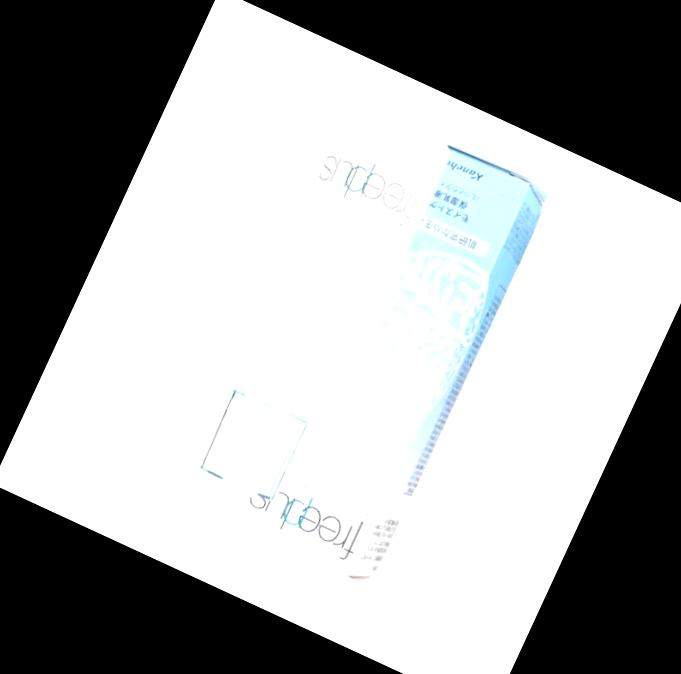cosmetic: (176, 92, 458, 513)
